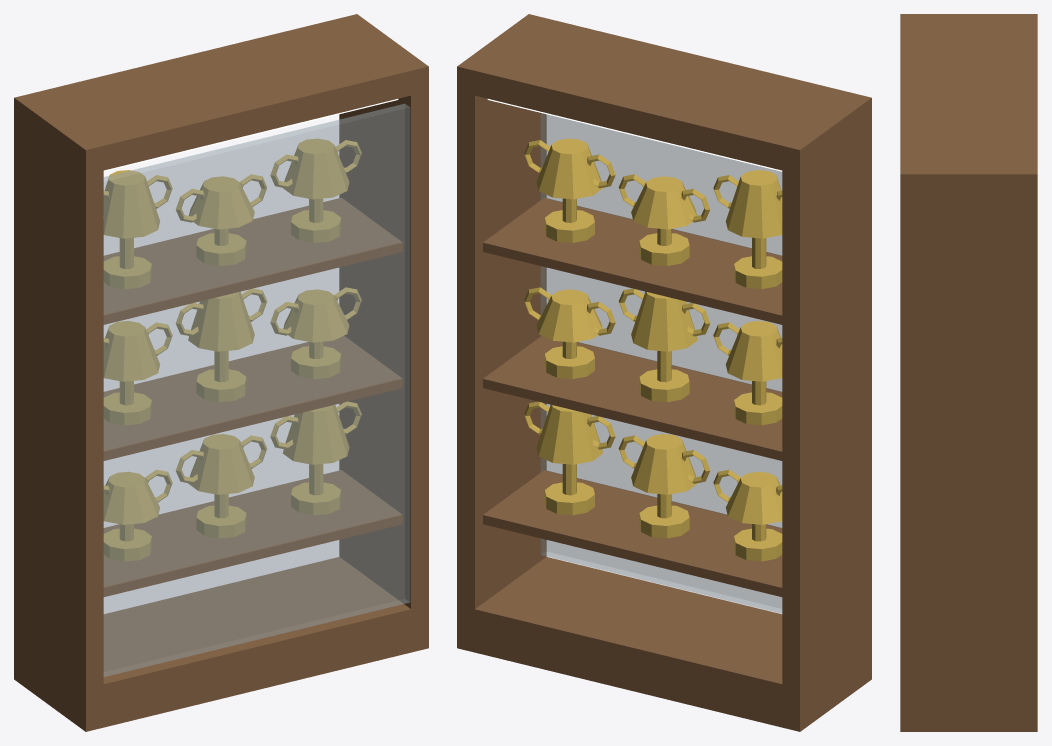
The model's file is trophy_case.glb.
3 renders of one model, left to right at view 1: azimuth 30°, elevation 25°; view 2: azimuth 150°, elevation 25°; view 3: azimuth 270°, elevation 25°, orthographic. The views are drawn at different scales.
Parts seen in each view (by area): view 1: trophy_case; view 2: trophy_case; view 3: trophy_case.
Boxes of the visible parts, x1,y1,x2,y2 form: trophy_case: (14, 14, 428, 731); trophy_case: (457, 14, 871, 731); trophy_case: (900, 14, 1037, 731).
Size of the model in its own units: 1.16 by 1.88 by 0.42.
